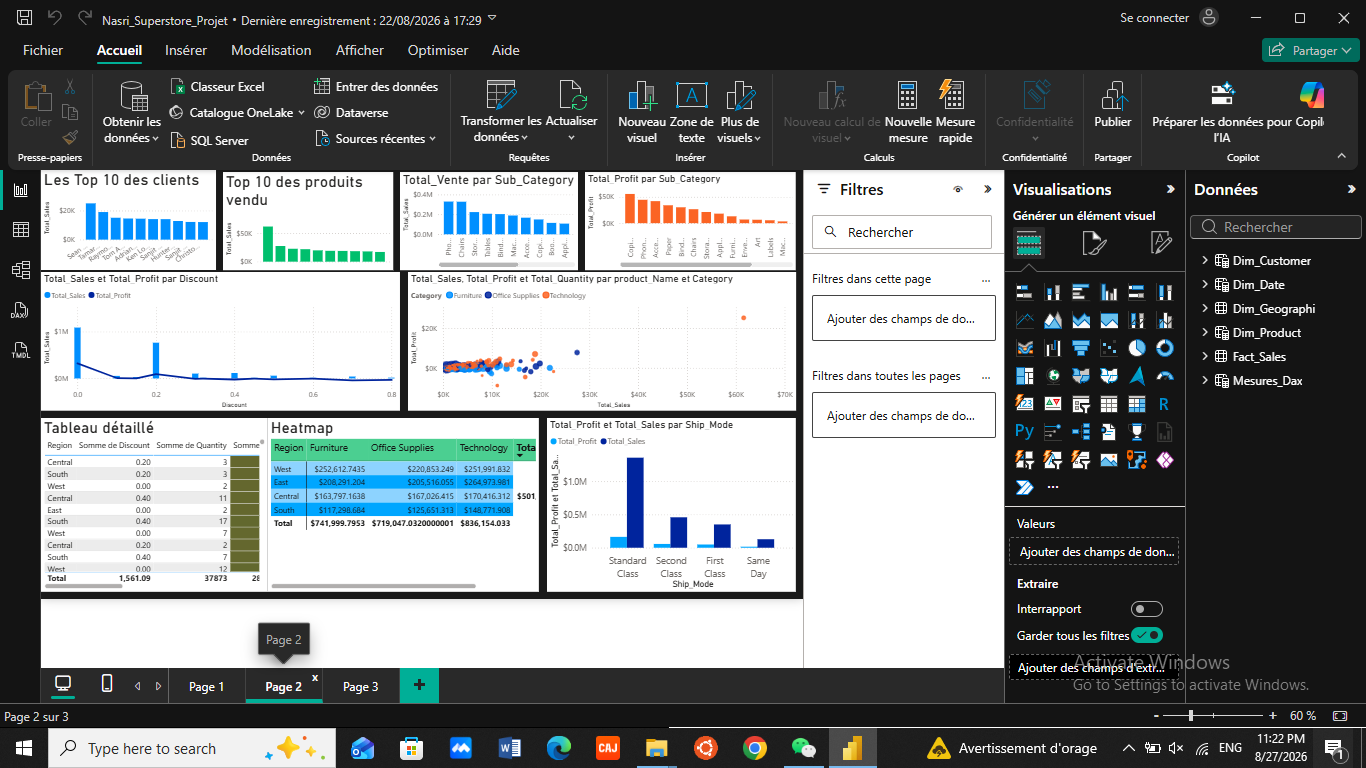

The page's visual inventory and layout, read from the dashboard file:
{"tool":"powerbi","page":{"name":"Page 2","canvas":[1280,720],"ordinal":1},"visuals":[{"type":"clusteredColumnChart","title":"Top 10 des produits vendu","fields":{"Category":["Dim_Product.product_Name"],"Y":["Mesures_Dax.Total_Sales"]},"box":[305.7,3.4,285.6,164.6],"z":0},{"type":"clusteredColumnChart","title":"Total_Vente par Sub_Category","fields":{"Category":["Dim_Product.Sub_Category"],"Y":["Mesures_Dax.Total_Sales"]},"box":[603,3.4,299,164.6],"z":1000},{"type":"clusteredColumnChart","title":"Les Top 10 des clients","fields":{"Category":["Dim_Customer.Customer_Name"],"Y":["Mesures_Dax.Total_Sales"]},"box":[0,0,294,168],"z":2000},{"type":"columnChart","fields":{"Category":["Dim_Product.Sub_Category"],"Y":["Mesures_Dax.Total_Profit"]},"box":[913.8,3.4,354.4,164.6],"z":3000},{"type":"lineStackedColumnComboChart","fields":{"Category":["Fact_Sales.Discount"],"Y":["Mesures_Dax.Total_Sales"],"Y2":["Mesures_Dax.Total_Profit"]},"box":[0,171.3,603,233.5],"z":4000},{"type":"scatterChart","fields":{"Y":["Mesures_Dax.Total_Profit"],"Size":["Mesures_Dax.Total_Quantity"],"Series":["Dim_Product.Category"],"X":["Mesures_Dax.Total_Sales"],"Category":["Dim_Product.product_Name"]},"box":[616.5,171.3,651.8,233.5],"z":5000},{"type":"pivotTable","title":"Heatmap","fields":{"Rows":["Dim_Geographi.Region"],"Columns":["Dim_Product.Category"],"Values":["Mesures_Dax.Total_Sales"]},"box":[381.3,416.6,455.2,292.3],"z":6000},{"type":"clusteredColumnChart","fields":{"Category":["Fact_Sales.Ship_Mode"],"Y":["Mesures_Dax.Total_Profit","Mesures_Dax.Total_Sales"]},"box":[850,416.6,418.3,292.3],"z":7000},{"type":"tableEx","title":"Tableau détaillé","fields":{"Values":["Dim_Geographi.Region","Sum(Fact_Sales.Discount)","Sum(Fact_Sales.Quantity)","Sum(Fact_Sales.Profit)","Sum(Fact_Sales.Sales)","Dim_Product.Category","Dim_Product.product_Name"]},"box":[0,416.6,381.3,292.3],"z":8000}]}

Visuals, with their boxes on the page's 1280x720 design canvas (x1, y1, x2, y2). These are canvas units, not pixel positions in the 1366x768 screenshot, which may show the page scaled, cropped or inside an application window:
"Top 10 des produits vendu" clusteredColumnChart: bbox=[306, 3, 591, 168]
"Total_Vente par Sub_Category" clusteredColumnChart: bbox=[603, 3, 902, 168]
"Les Top 10 des clients" clusteredColumnChart: bbox=[0, 0, 294, 168]
columnChart - Dim_Product.Sub_Category x Mesures_Dax.Total_Profit: bbox=[914, 3, 1268, 168]
lineStackedColumnComboChart - Fact_Sales.Discount x Mesures_Dax.Total_Sales: bbox=[0, 171, 603, 405]
scatterChart - Mesures_Dax.Total_Profit x Mesures_Dax.Total_Quantity: bbox=[616, 171, 1268, 405]
"Heatmap" pivotTable: bbox=[381, 417, 836, 709]
clusteredColumnChart - Fact_Sales.Ship_Mode x Mesures_Dax.Total_Profit: bbox=[850, 417, 1268, 709]
"Tableau détaillé" tableEx: bbox=[0, 417, 381, 709]
